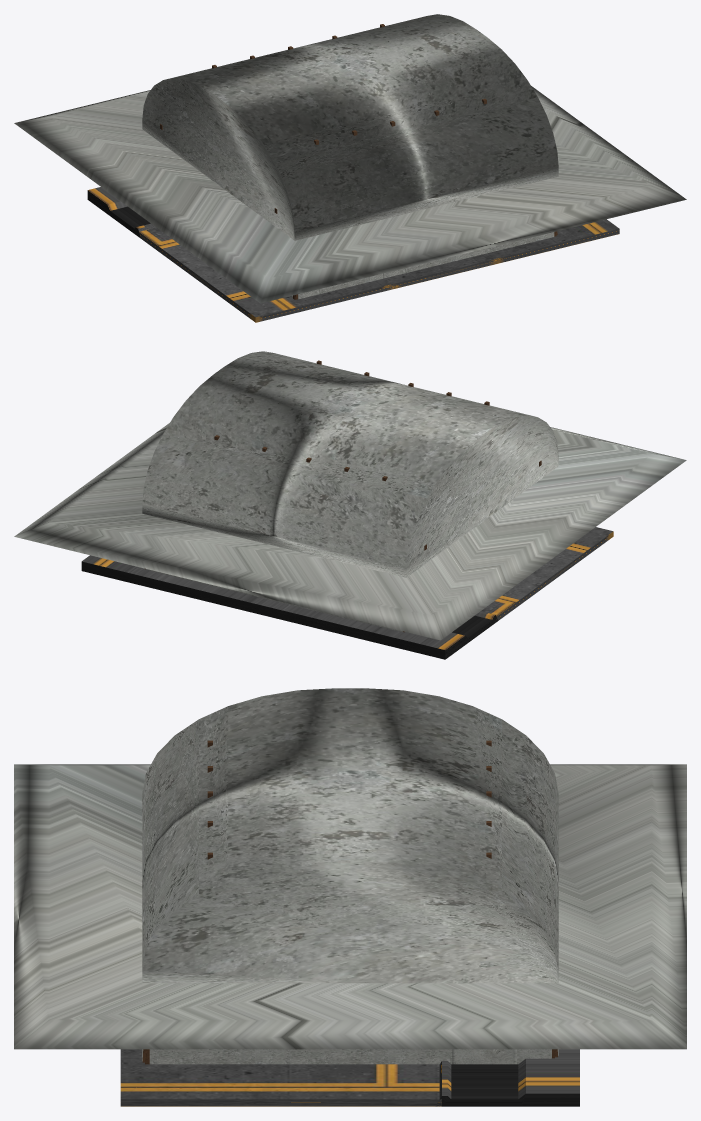
File: Zone Shop.fbx
3 views of the same model, one above another, from view 1: azimuth 30°, elevation 25°; view 2: azimuth 150°, elevation 25°; view 3: azimuth 270°, elevation 25° (orthographic). The views are drawn at different scales.
Visible parts, largest first — view 1: Cube.022, Cube, Cube.018, Cube.012, Cube.011, Cube.006; view 2: Cube.022, Cube.018, Cube.020, Cube; view 3: Cube.022, Cube, Cube.018, Cube.020, Cube.001, Cube.007, Cube.003.
Part boxes in pixels (x1,y1,x2,y2): Cube.022: (14,14,686,303); Cube: (139,219,619,322); Cube.018: (87,190,150,237); Cube.012: (294,273,383,299); Cube.011: (383,252,469,278); Cube.006: (469,231,556,257); Cube.022: (14,351,686,640); Cube.018: (81,561,497,659); Cube.020: (82,555,495,649); Cube: (481,527,613,620); Cube.022: (14,688,686,1049); Cube: (120,1049,441,1106); Cube.018: (436,1064,579,1106); Cube.020: (442,1049,579,1095); Cube.001: (145,1049,284,1064); Cube.007: (284,1049,417,1064); Cube.003: (417,1049,554,1064).
Size of the model in its own units: 11465 by 3896 by 11465.
8 materials, 6 textured.
